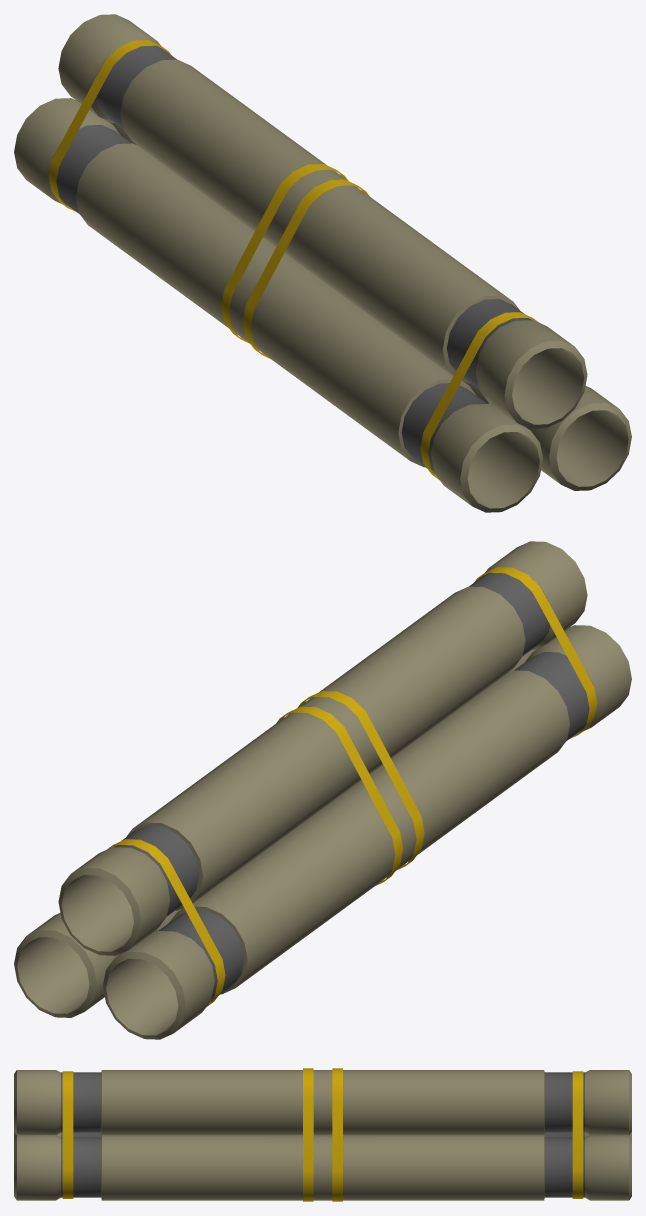
The model's file is Pipes.gltf.
The picture shows the model from 3 angles, top to bottom: view 1: azimuth 30°, elevation 25°; view 2: azimuth 150°, elevation 25°; view 3: azimuth 270°, elevation 25°; orthographic projection. The views are drawn at different scales.
Parts seen in each view (by area): view 1: Pipes; view 2: Pipes; view 3: Pipes.
Part boxes in pixels (box(x1,y1,x2,y2)): Pipes: box(14, 14, 631, 512); Pipes: box(14, 541, 631, 1039); Pipes: box(14, 1068, 631, 1201).
Size of the model in its own units: 0.7482 by 0.6713 by 3.36.
1 material, 1 textured.
